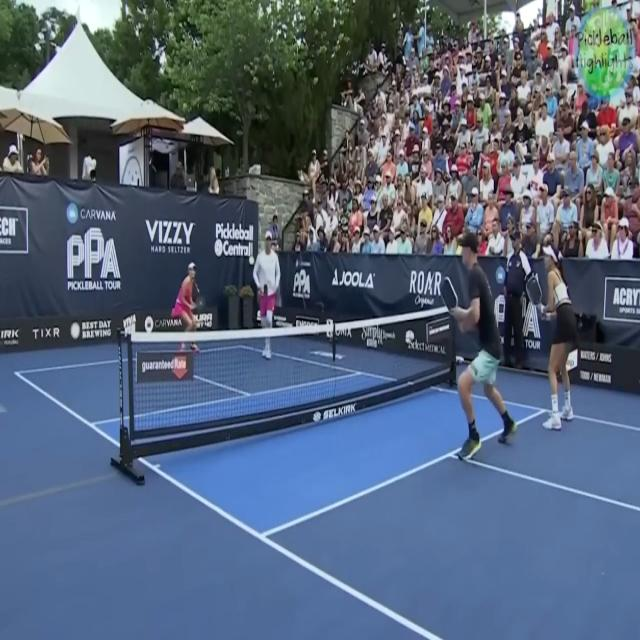Pickleball: (248, 253, 256, 268)
